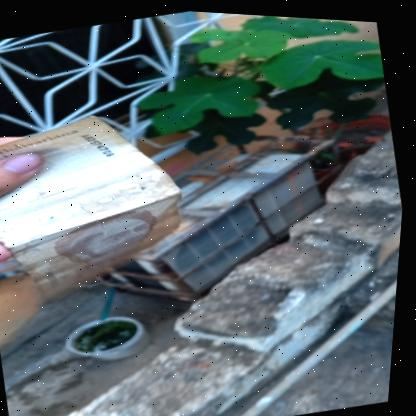five-front-vef: (0, 92, 208, 316)
